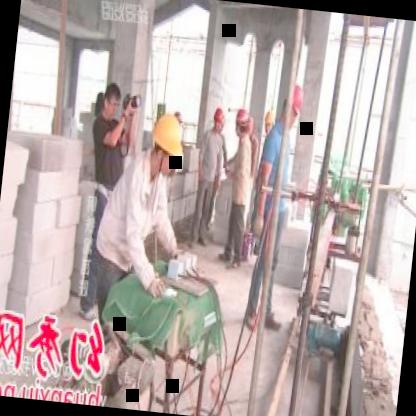head: (98, 78, 125, 128)
helmet: (145, 107, 186, 186), (280, 81, 307, 137), (232, 106, 250, 142), (210, 104, 228, 136), (260, 106, 278, 138)
